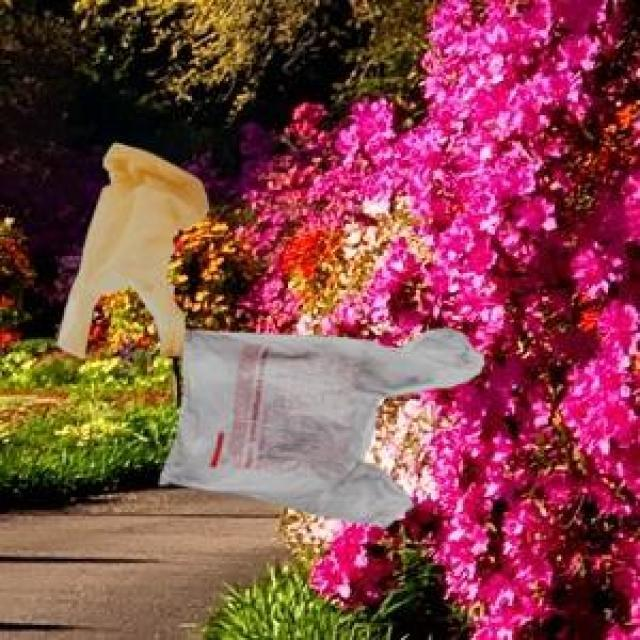waste: (58, 144, 482, 524)
